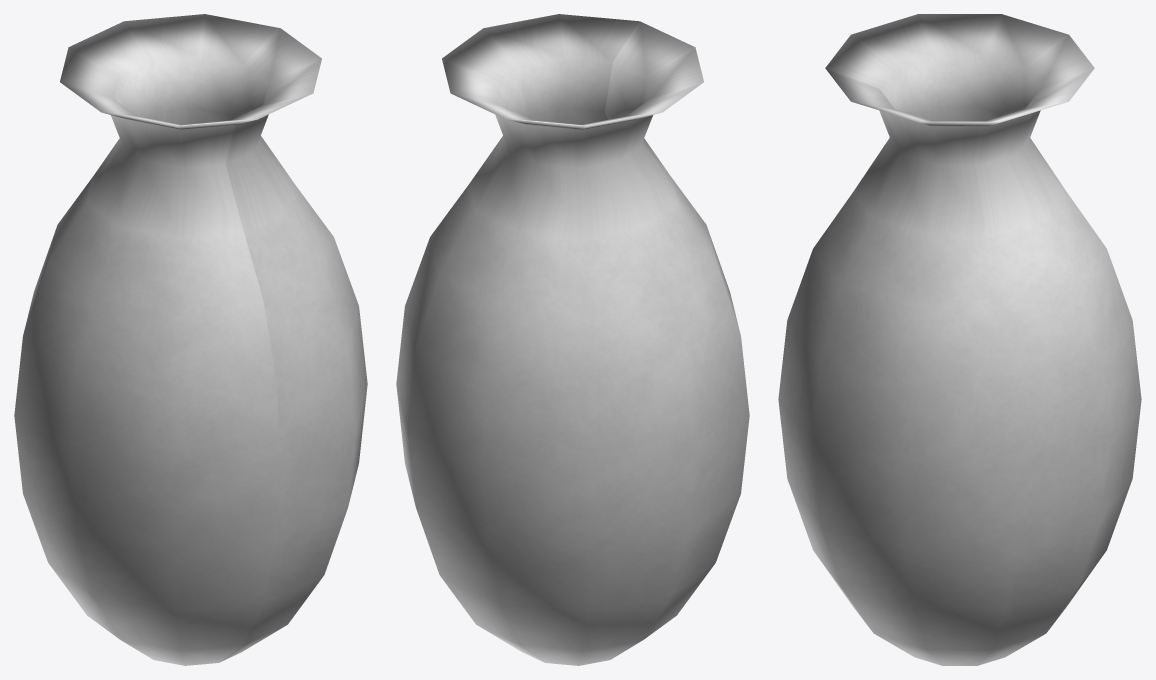
File: kabin.fbx
3 views of the same model, side by side, from view 1: azimuth 30°, elevation 25°; view 2: azimuth 150°, elevation 25°; view 3: azimuth 270°, elevation 25° (orthographic).
Parts seen in each view (by area): view 1: obj1; view 2: obj1; view 3: obj1.
Boxes of the visible parts, x1,y1,x2,y2 form: obj1: [14, 14, 367, 665]; obj1: [396, 14, 749, 665]; obj1: [778, 14, 1141, 665].
Bounding box in the file's own units: 193 × 357 × 203.
1 material, 1 textured.
